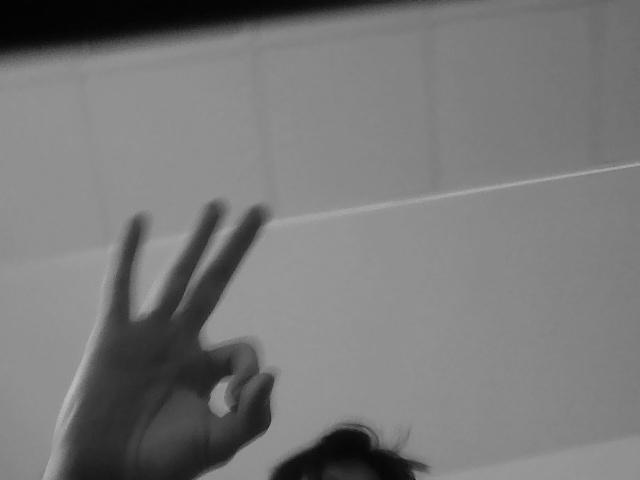OK: (73, 188, 274, 468)
